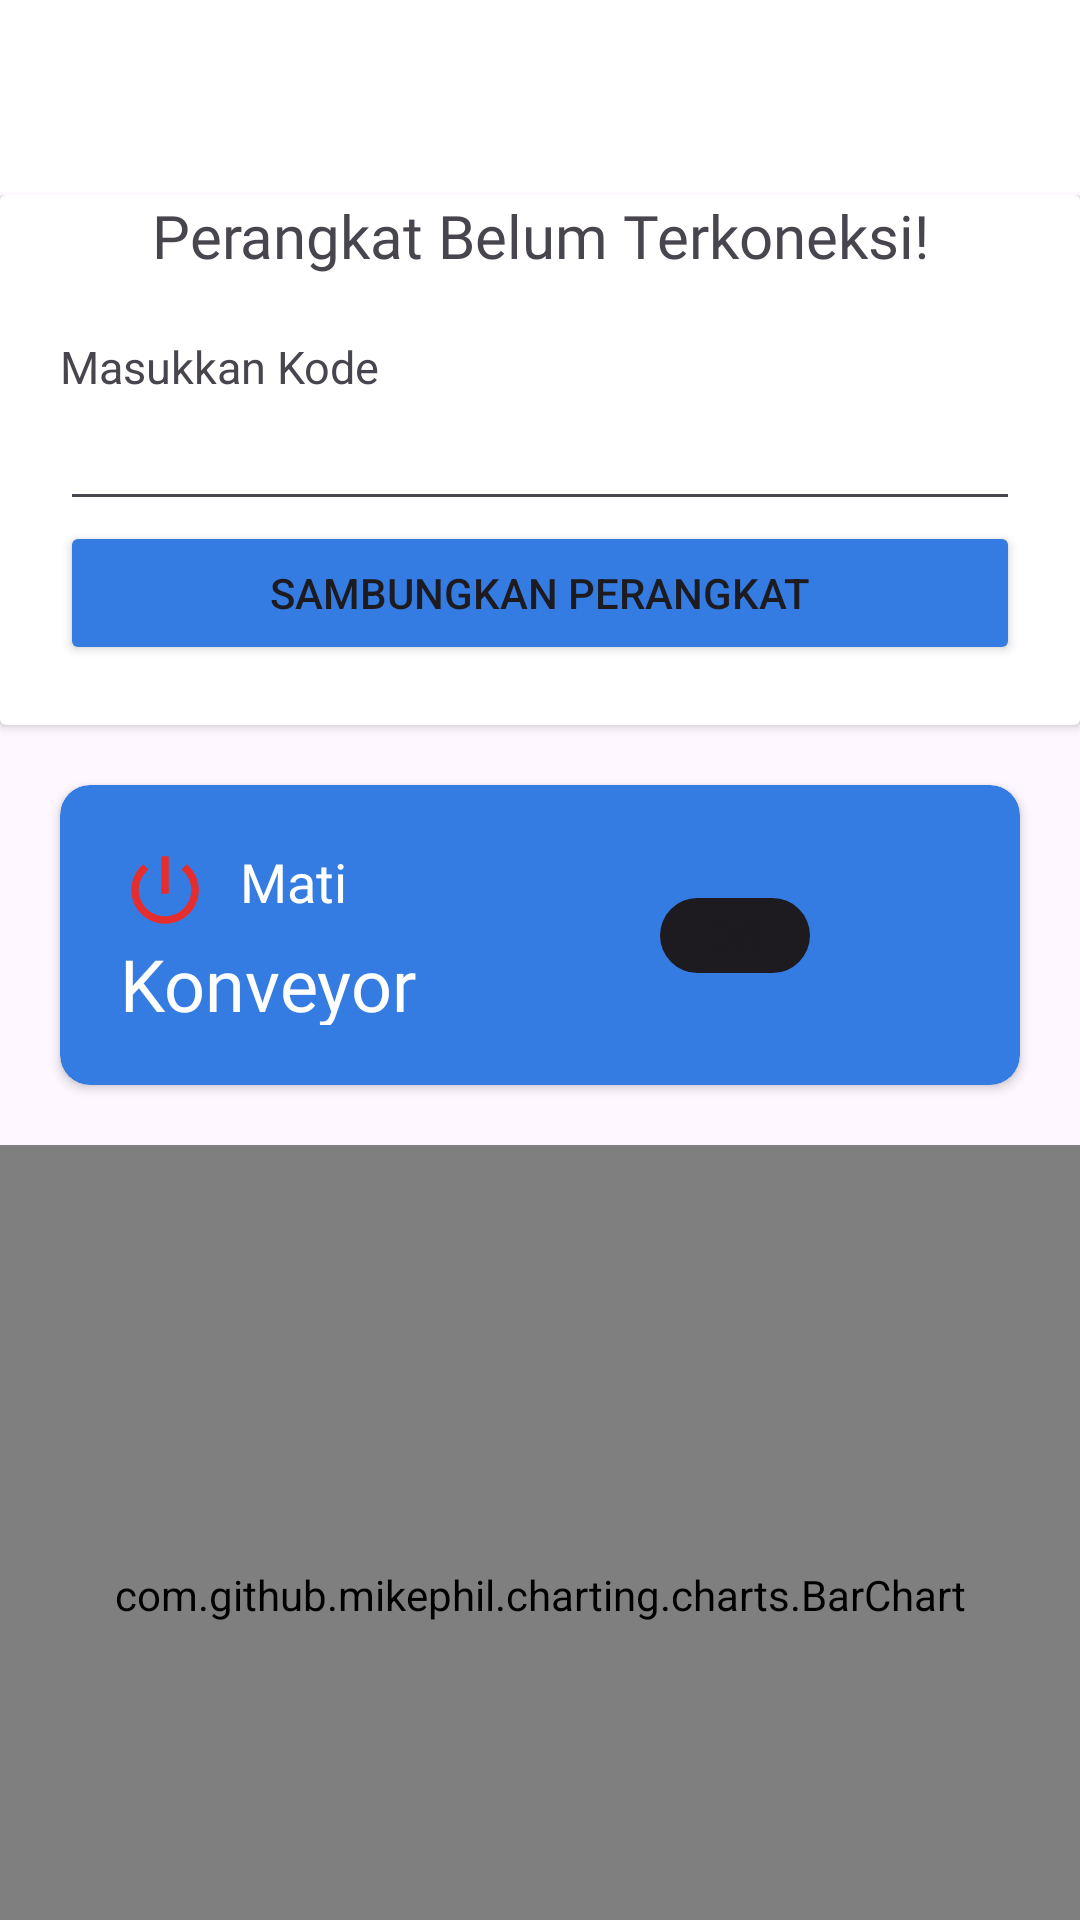

Screen size 1080 × 1920. Icon name, then its box in pixels as (x1, y1, x2, y2):
power off: (131, 856, 199, 924)
